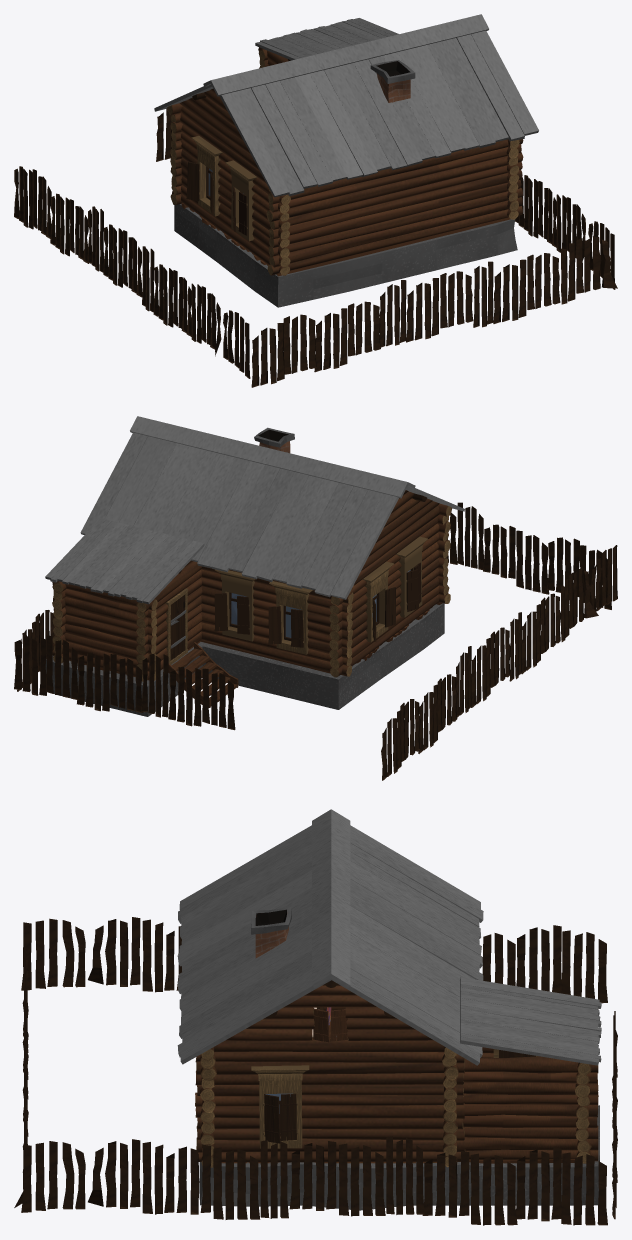
Rendered from main_house.fbx.
3 views of the same model, one above another, from view 1: azimuth 30°, elevation 25°; view 2: azimuth 150°, elevation 25°; view 3: azimuth 270°, elevation 25° (orthographic). The views are drawn at different scales.
Visible parts, largest first — view 1: Cube.029, Fance-W-V1, Cylinder.034, Cube.032, Cube.019, Object010.001, Cube.026, Cube.030; view 2: Cube.029, Fance-W-V1, Cylinder.034, Cube.032, Cylinder.004, Cube.017, Object010.003, Cube.019, Object010.001, Cube.033, Cube.028, Cube.026 (+2 smaller); view 3: Cube.029, Fance-W-V1, Cylinder.034, Cylinder.004, Cube.032, Cube.012, Cube.026, Cube.015.
Boxes of the visible parts, x1,y1,x2,y2 form: Cube.029: [154, 14, 538, 197]; Fance-W-V1: [14, 108, 617, 387]; Cylinder.034: [167, 89, 523, 275]; Cube.032: [174, 204, 517, 307]; Cube.019: [186, 136, 222, 216]; Object010.001: [225, 160, 257, 241]; Cube.026: [370, 60, 415, 102]; Cube.030: [181, 203, 510, 276]; Cube.029: [45, 416, 464, 604]; Fance-W-V1: [14, 502, 617, 780]; Cylinder.034: [186, 490, 451, 677]; Cube.032: [45, 603, 444, 716]; Cylinder.004: [52, 561, 202, 681]; Cube.017: [268, 581, 312, 654]; Object010.003: [214, 569, 255, 641]; Cube.019: [362, 561, 395, 642]; Object010.001: [396, 536, 427, 617]; Cube.033: [168, 642, 238, 707]; Cube.028: [170, 595, 186, 660]; Cube.026: [254, 427, 294, 453]; Cube.029: [177, 809, 601, 1065]; Fance-W-V1: [14, 917, 617, 1225]; Cylinder.034: [195, 984, 465, 1167]; Cylinder.004: [463, 1009, 598, 1163]; Cube.032: [199, 1036, 599, 1210]; Cube.012: [251, 1065, 309, 1148]; Cube.026: [251, 907, 291, 958]; Cube.015: [313, 1008, 347, 1042].
Size of the model in its own units: 2534 by 1281 by 2831.
